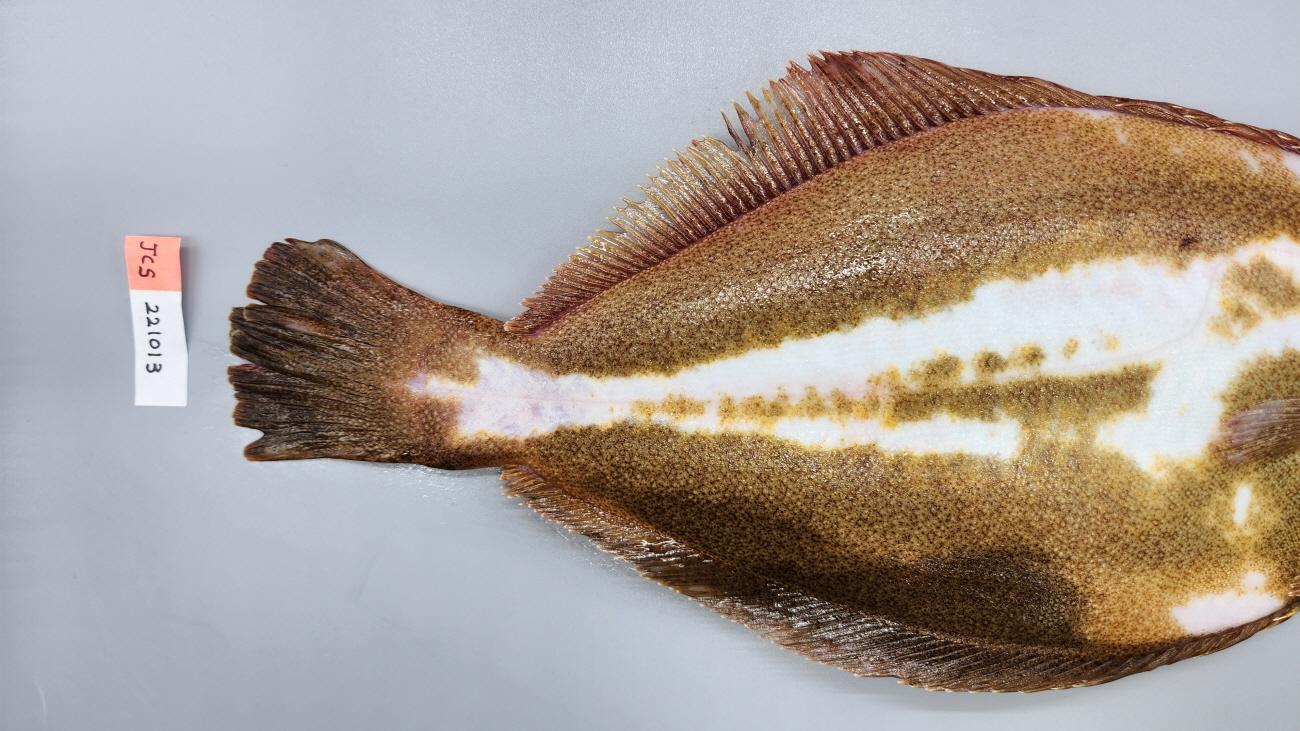VIFAH: (500, 463, 1299, 694)
VIFCH: (228, 238, 436, 462)
VIFDH: (504, 48, 1297, 331)
